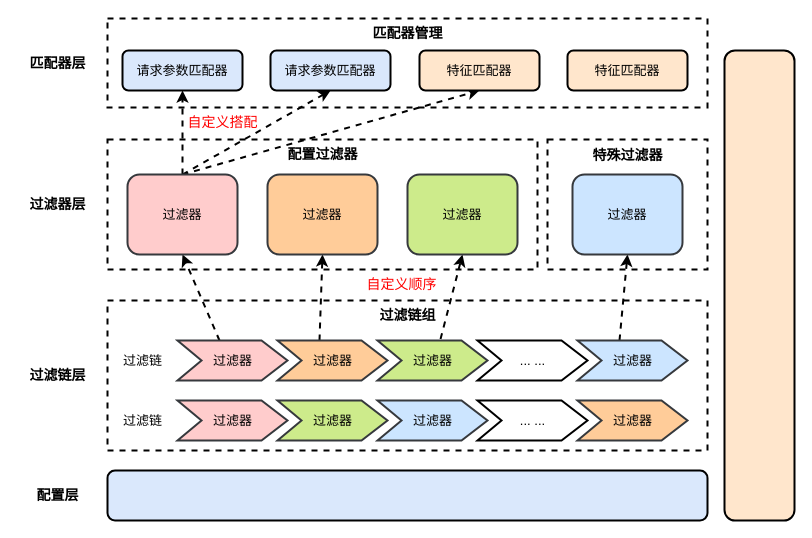
Image size: 812x538. Some labels were removed from this diagram. The shapes that lost their labels are listed below. From the top down, each one's centre as x and y in pixels, then its label:
the point at 759,285: 监控管理
the point at 407,495: 配置管理
